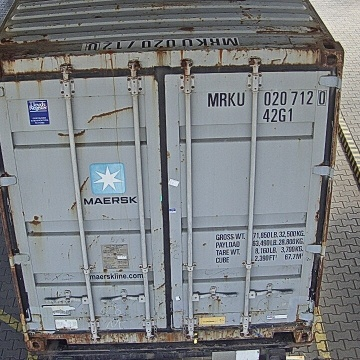serial_id: (208, 90, 327, 106)
